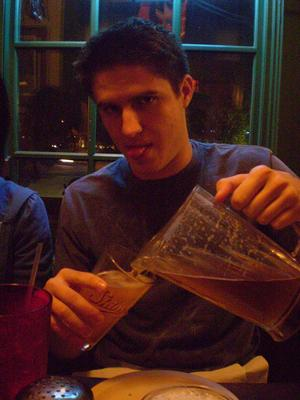person: (44, 16, 300, 380)
